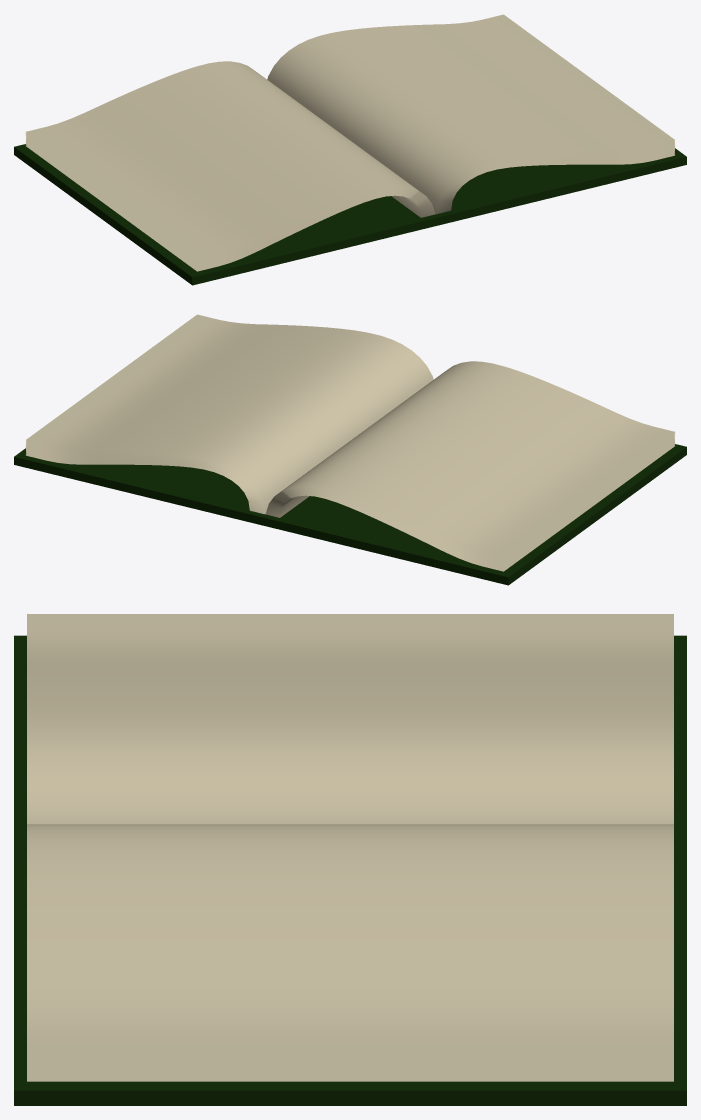
The model's file is book.fbx.
3 renders of one model, top to bottom at view 1: azimuth 30°, elevation 25°; view 2: azimuth 150°, elevation 25°; view 3: azimuth 270°, elevation 25°, orthographic. The views are drawn at different scales.
Visible parts, largest first — view 1: Plane.048, Cube.002, Cube.001, Cube; view 2: Plane.048, Cube.002, Cube.001; view 3: Plane.048, Cube.001, Cube.002.
Part boxes in pixels (box(x1,y1,x2,y2)): Plane.048: box(25, 14, 675, 271); Cube.002: box(14, 144, 431, 285); Cube.001: box(447, 148, 686, 221); Cube: box(390, 196, 455, 228); Plane.048: box(25, 314, 675, 571); Cube.002: box(269, 444, 686, 585); Cube.001: box(14, 448, 256, 521); Plane.048: box(27, 614, 673, 1081); Cube.001: box(14, 870, 686, 1105); Cube.002: box(14, 635, 686, 851).
Size of the model in its own units: 320 by 29.6 by 200.
